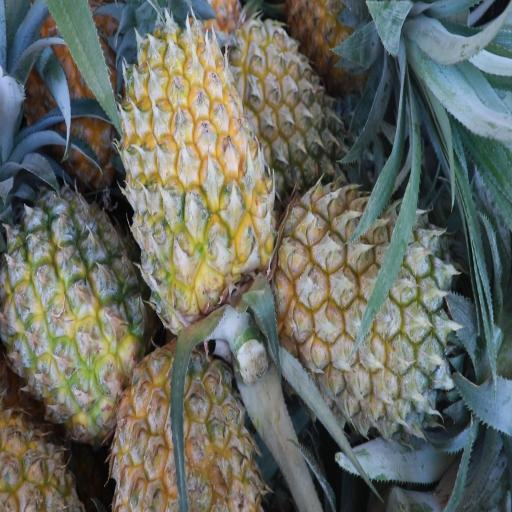------------------------------: (114, 339, 252, 512)
Pineapple - v8 v1: (124, 24, 272, 320), (2, 183, 140, 427)
